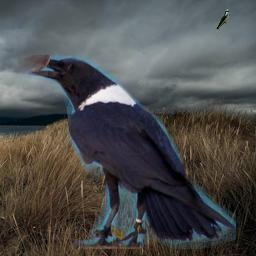Crow: (24, 55, 236, 249)
Swallow: (216, 9, 230, 30)
